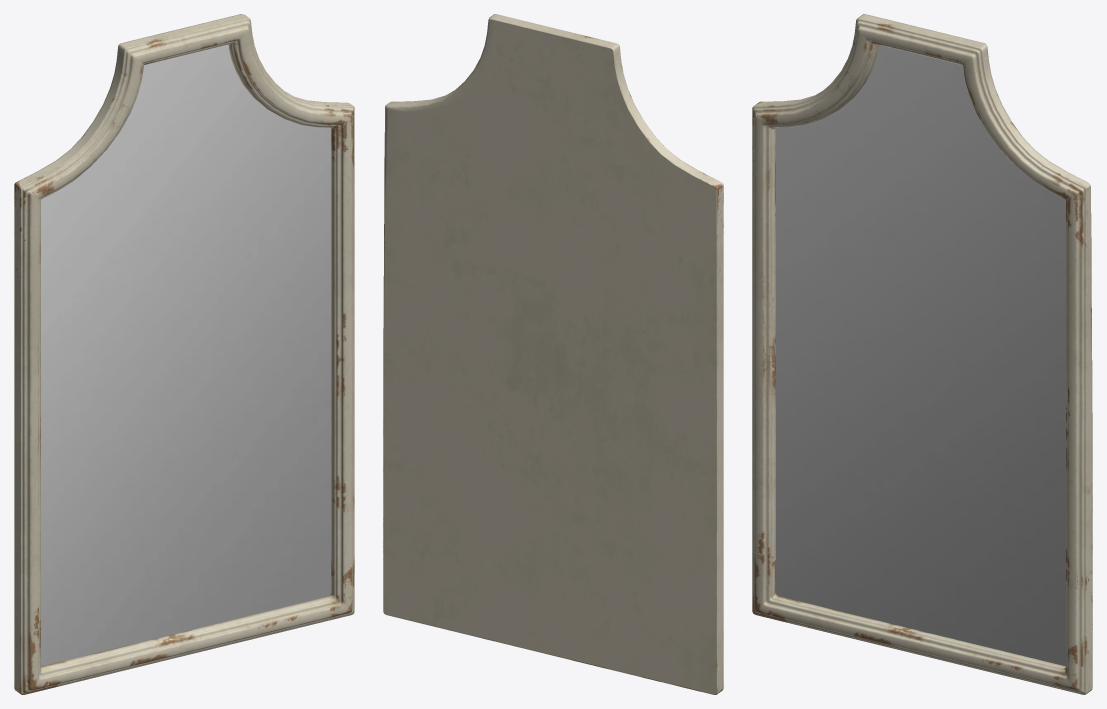
File: B073WGP8YJ.glb
3 views of the same model, side by side, from view 1: azimuth 30°, elevation 25°; view 2: azimuth 150°, elevation 25°; view 3: azimuth 330°, elevation 25° (orthographic).
Visible parts, largest first — view 1: RootNode; view 2: RootNode; view 3: RootNode.
Boxes of the visible parts, x1,y1,x2,y2 form: RootNode: (14,14,354,694); RootNode: (383,14,723,694); RootNode: (752,14,1092,694).
Bounding box in the file's own units: 0.4034 × 0.7174 × 0.0217.
1 material, 1 textured.
